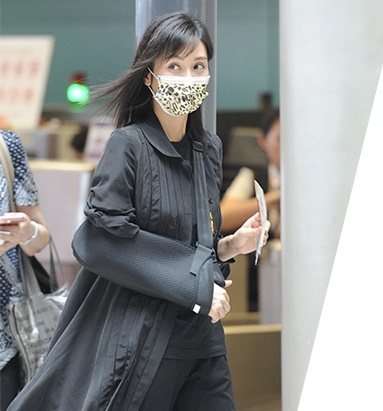face_mask: (152, 45, 209, 115)
